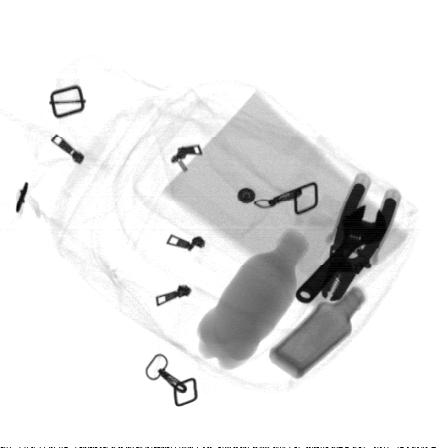Pliers: (322, 171, 402, 303)
Wrench: (297, 204, 386, 304)
